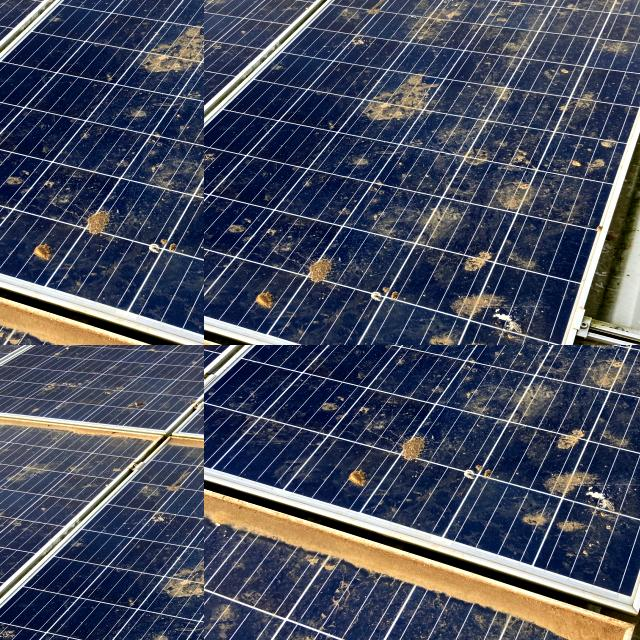bird: (515, 465, 640, 560), (204, 587, 334, 640), (355, 410, 458, 470), (452, 345, 569, 392), (448, 366, 548, 418), (557, 345, 640, 403), (550, 419, 622, 468), (312, 468, 410, 500), (452, 450, 506, 502), (259, 345, 356, 367)
crack: (0, 0, 204, 101), (0, 0, 203, 49), (0, 0, 204, 30), (204, 0, 347, 29), (204, 0, 318, 34), (204, 0, 250, 11), (204, 0, 233, 7)
dust: (68, 506, 204, 640), (0, 351, 81, 559), (92, 364, 204, 508)
